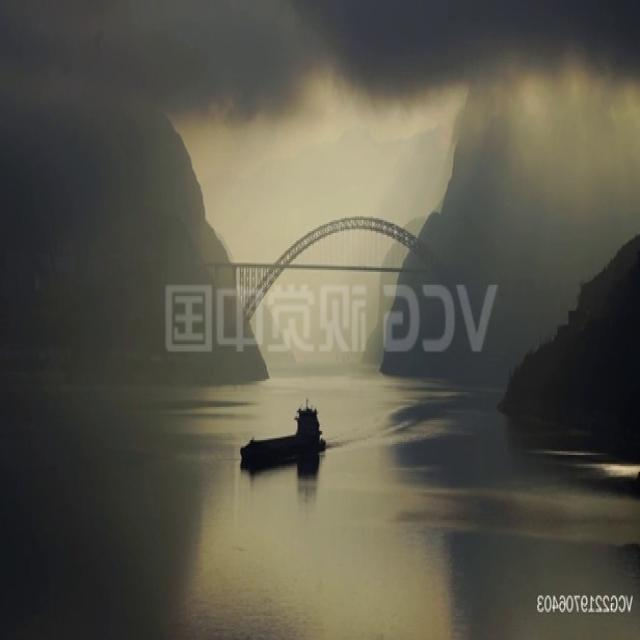cargoship: (240, 395, 328, 475)
